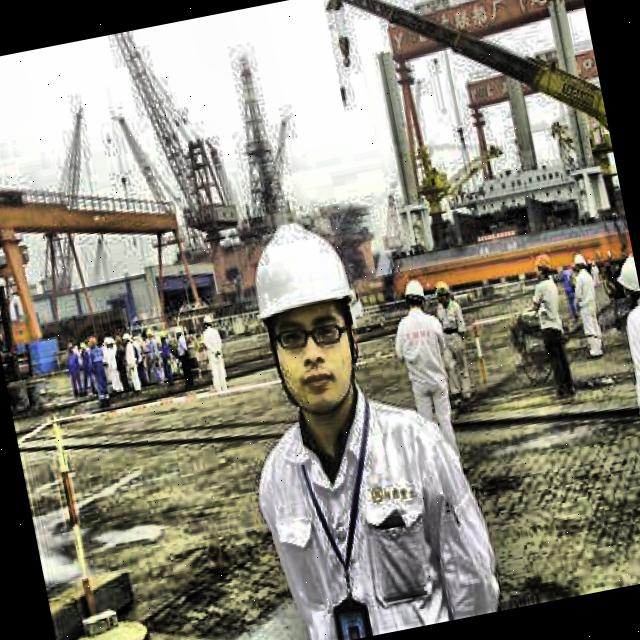helmet: (228, 202, 382, 428), (613, 248, 640, 319), (396, 273, 434, 321), (530, 250, 557, 284)
